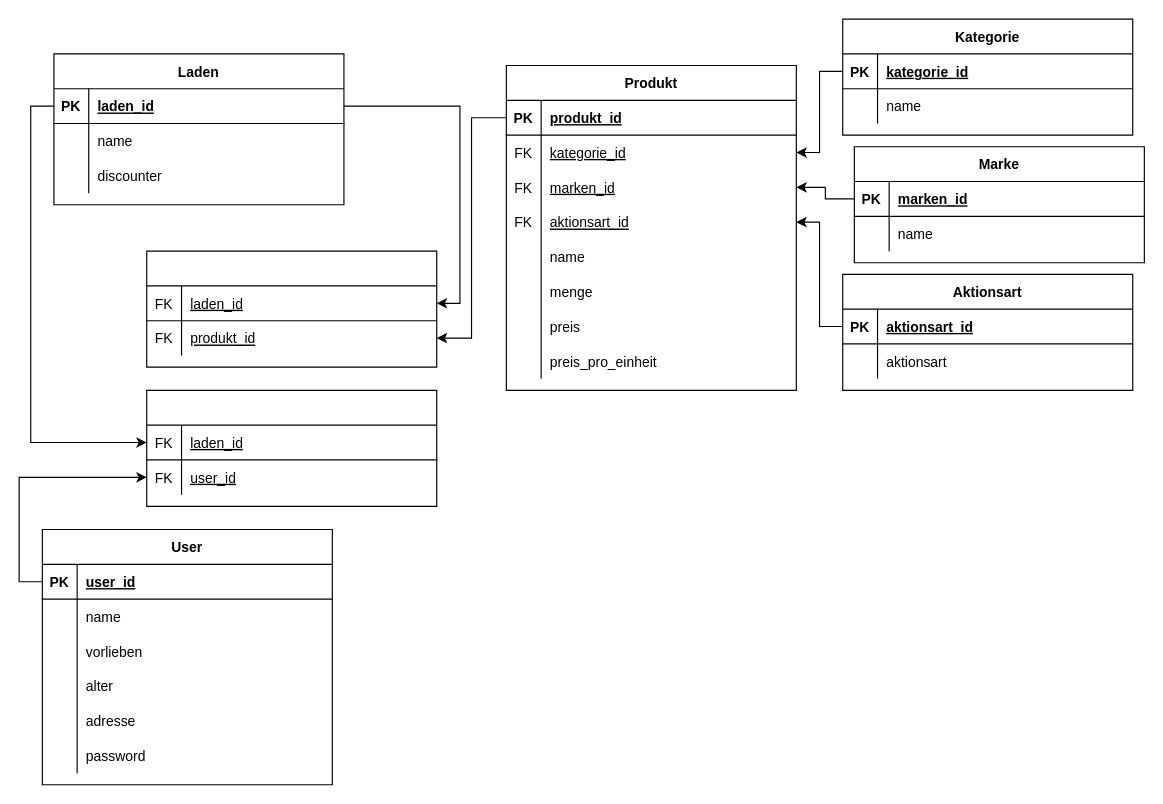
Image size: 1163x804. Some labels were removed from this diagram. Here are the shapes that lost their labels. From the top down, the box of each, then its label:
(146, 250, 437, 367): Laden_Produkt
(146, 389, 437, 506): Laden_User
